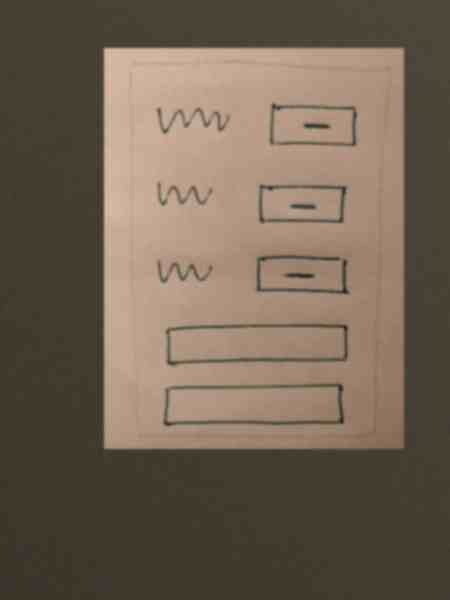button: (260, 96, 364, 156), (255, 250, 355, 303), (254, 179, 351, 230)
text: (157, 98, 234, 141), (154, 249, 216, 293), (151, 177, 214, 214)
text_input: (161, 319, 353, 371), (161, 382, 347, 428)
